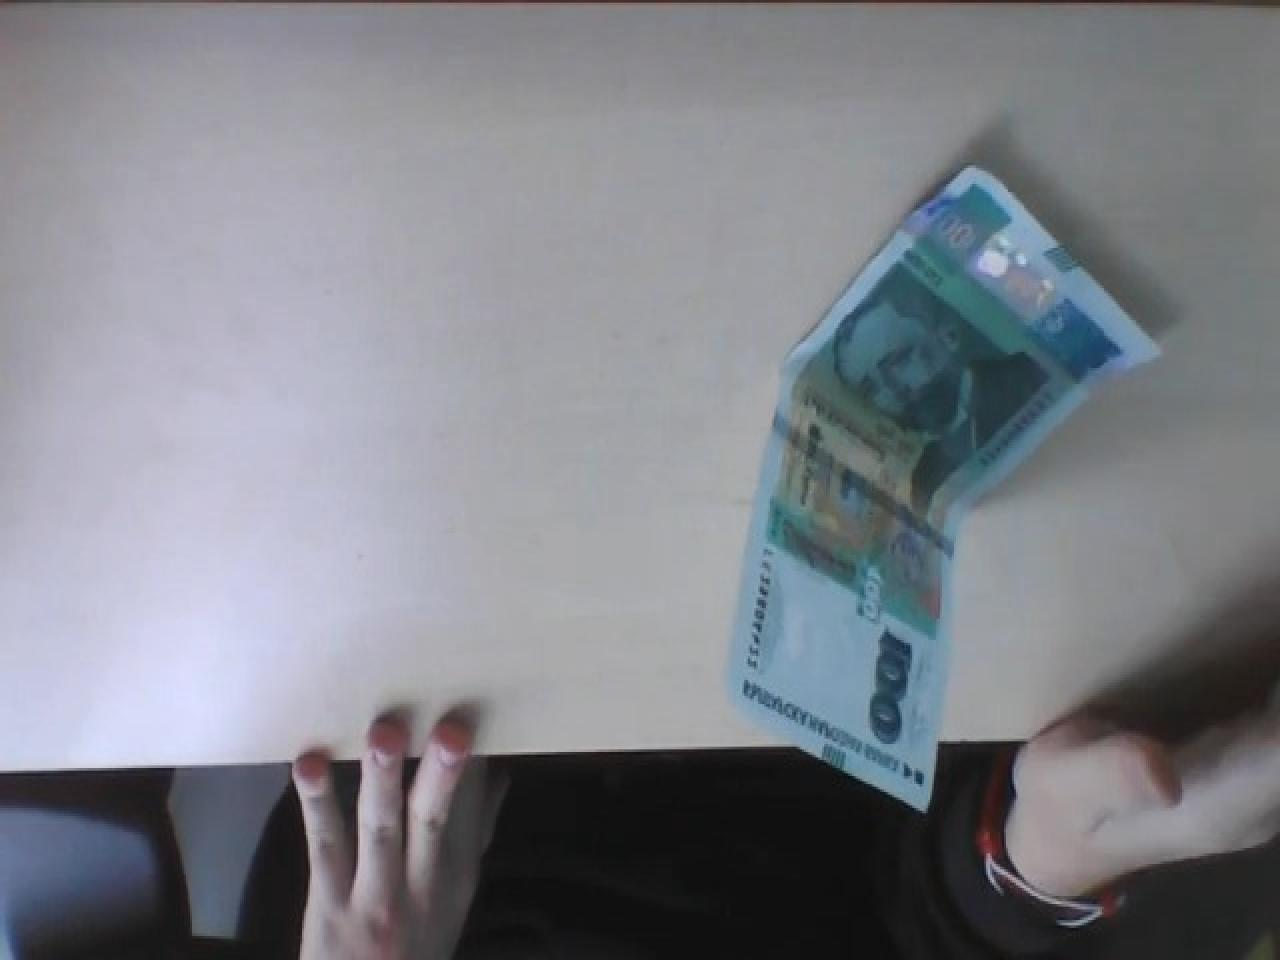100leva: (726, 162, 1162, 813)
